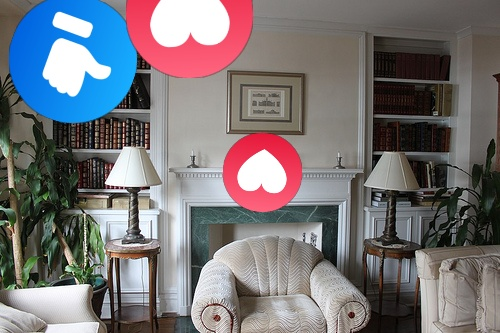like: (9, 0, 137, 123)
love: (126, 0, 253, 78), (223, 133, 302, 212)
